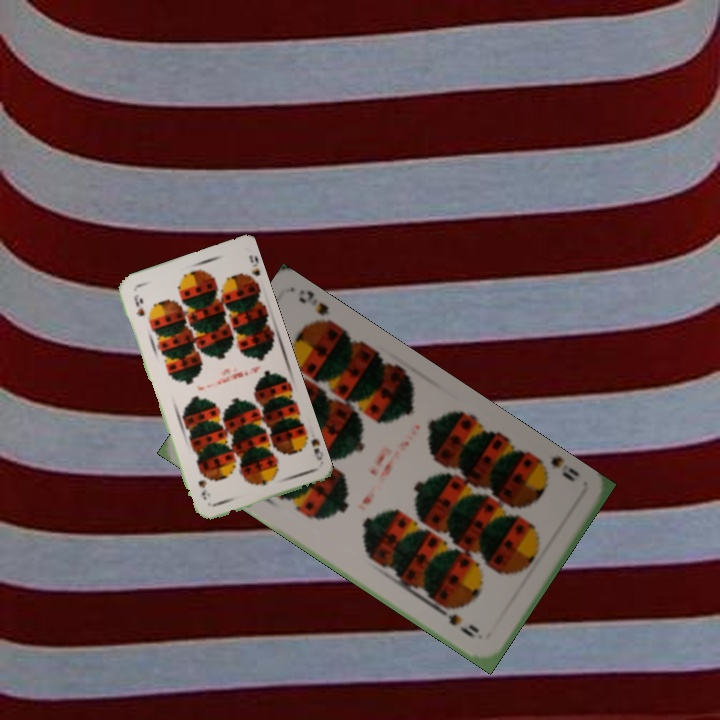S9: (532, 453, 578, 485), (298, 428, 325, 463), (130, 290, 148, 319)
